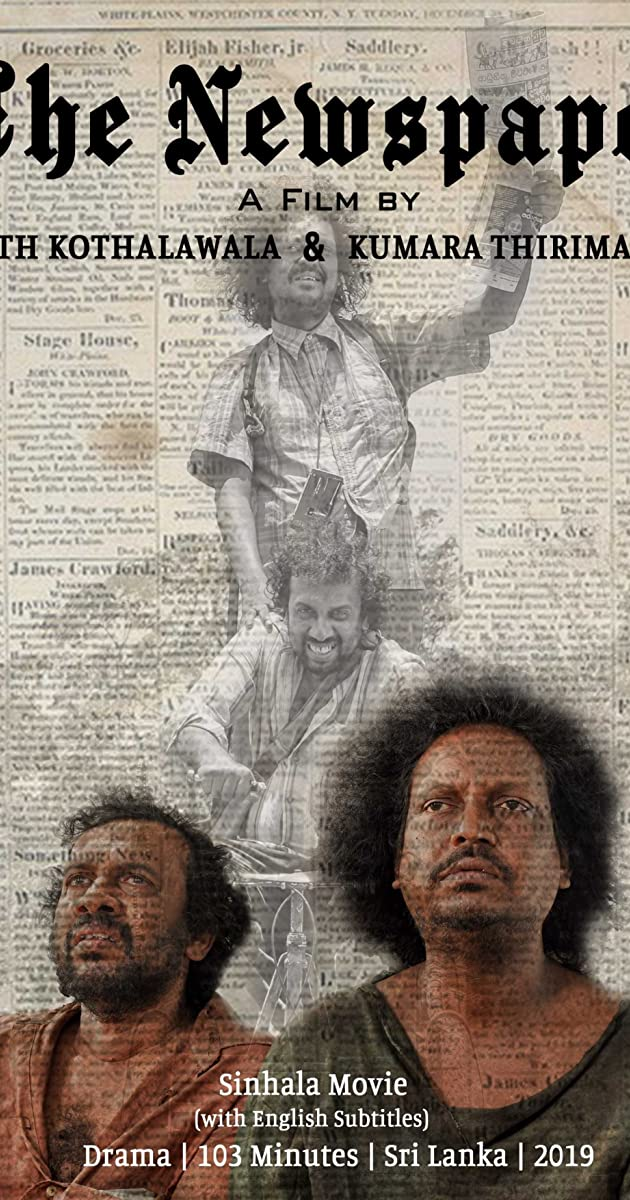news_paper: (4, 2, 626, 1200)
